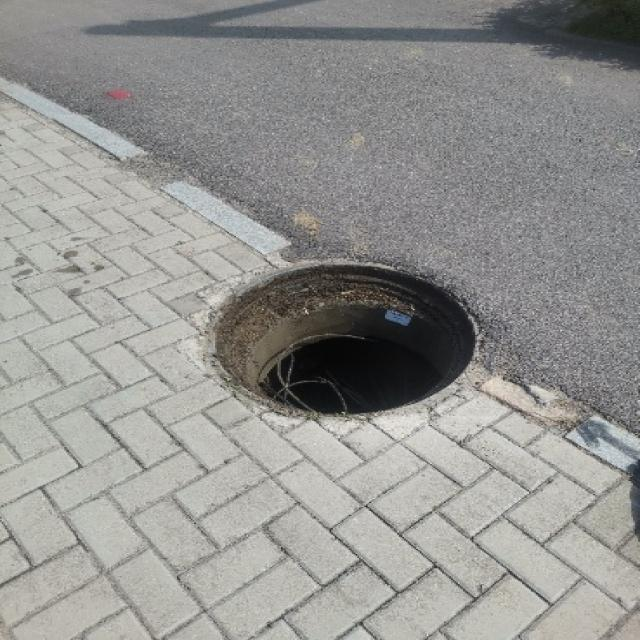Faulty: (165, 248, 510, 427)
